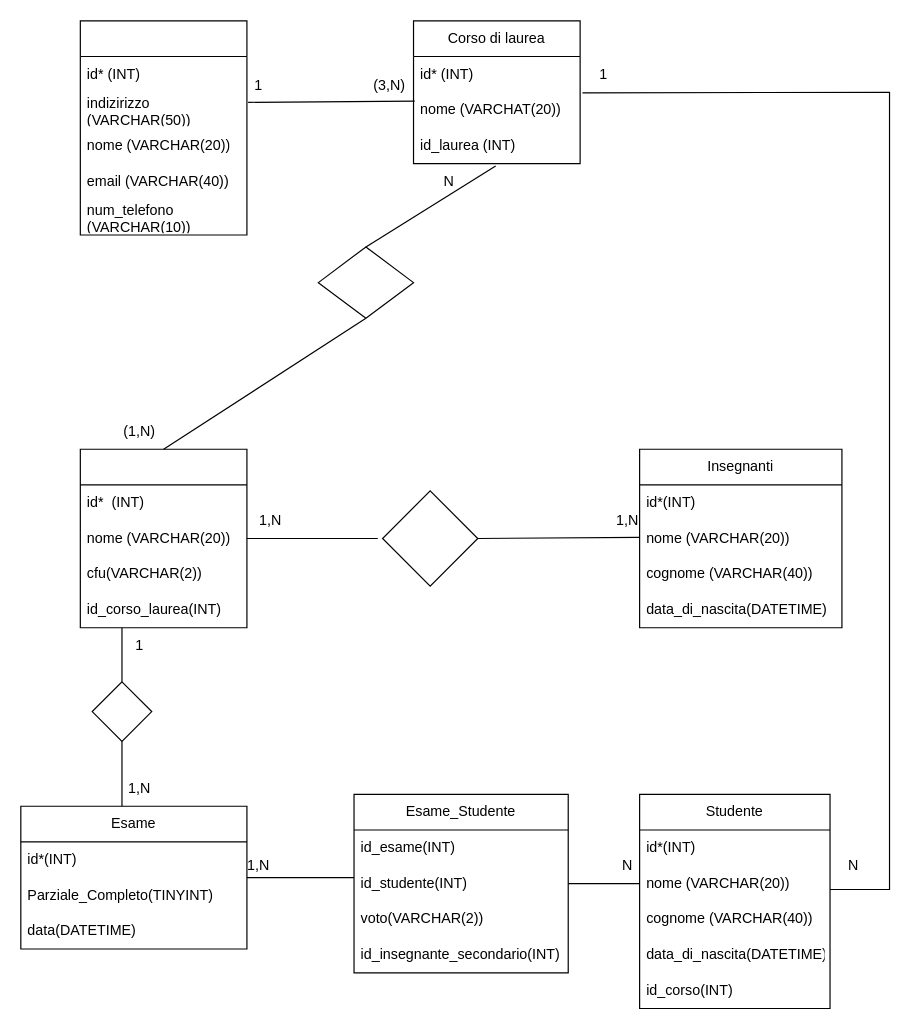
Image size: 912x1029. Some labels were removed from this diagram. The box of each missing label's shape, as (x1, y1, x2, y2) in pixels:
Dipartimento: (79, 20, 247, 235)
Materia: (79, 448, 247, 628)
